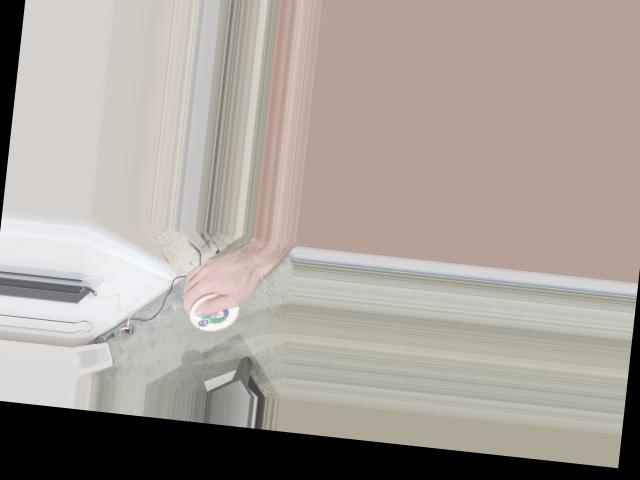cotage: (187, 286, 241, 334)
